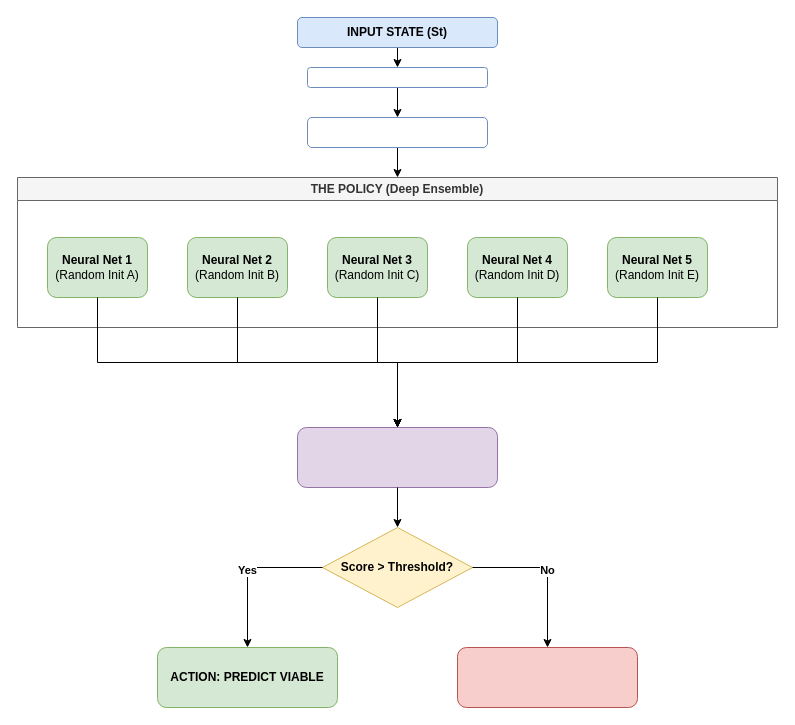
Some shapes in this 795 by 725 pixel diagram are drawn without their labels. Here are the shapes that lost their labels. From the top down, the centre of each, then its label:
the point at 397,77: DistilBERT Embeddings
the point at 397,132: Expert Scores (RF, GB, LGBM)
the point at 397,457: AGGREGATION (Consensus) Calculate Mean (Average) Score
the point at 547,677: ACTION: PREDICT FAILURE
